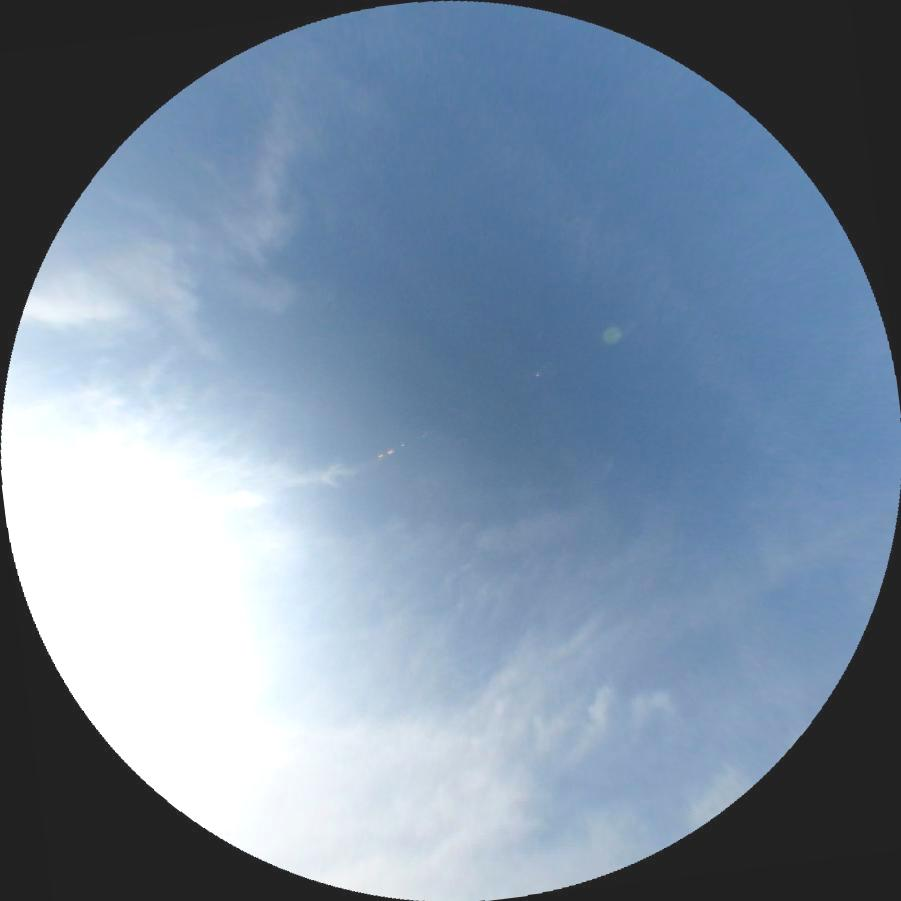contrail young: (403, 592, 609, 717)
parasite: (190, 540, 300, 553)
sun: (0, 472, 235, 746)
